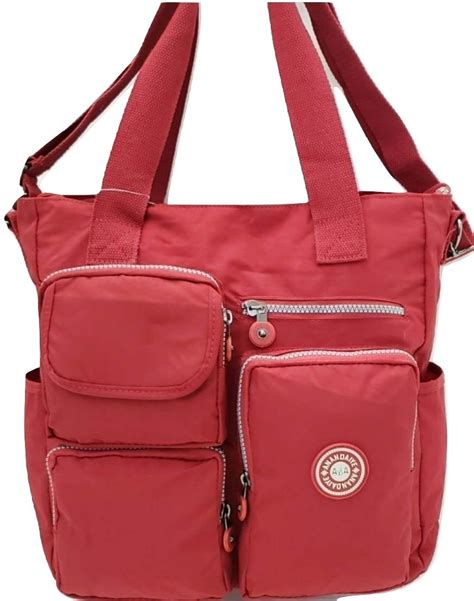nylon: (5, 1, 474, 601)
